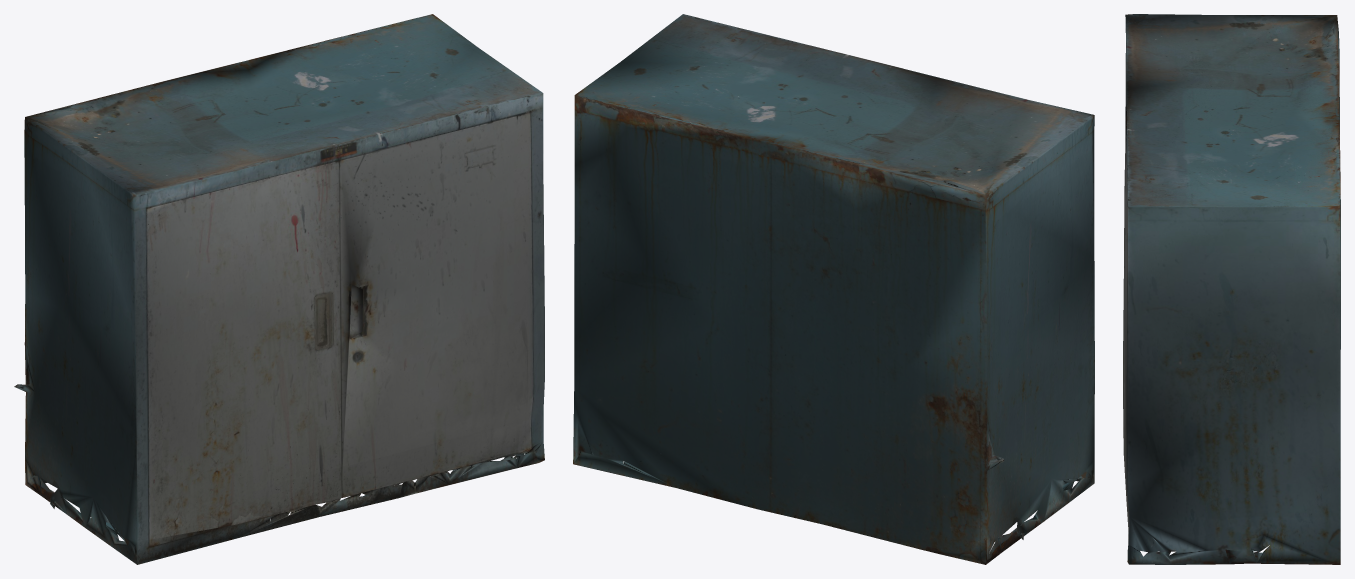
File: PX_Old_Tin_Cabinet_01_LOD5.fbx
The picture shows the model from 3 angles, left to right: view 1: azimuth 30°, elevation 25°; view 2: azimuth 150°, elevation 25°; view 3: azimuth 270°, elevation 25°; orthographic projection. The views are drawn at different scales.
Visible parts, largest first — view 1: PX_Old_Tin_Cabinet_01_LOD5; view 2: PX_Old_Tin_Cabinet_01_LOD5; view 3: PX_Old_Tin_Cabinet_01_LOD5.
Part boxes in pixels (<box>): PX_Old_Tin_Cabinet_01_LOD5: <box>14,14,544,564</box>; PX_Old_Tin_Cabinet_01_LOD5: <box>573,14,1094,564</box>; PX_Old_Tin_Cabinet_01_LOD5: <box>1123,14,1340,564</box>.
Bounding box in the file's own units: 79.71 × 66.41 × 36.31.
